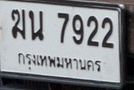txt04: (10, 8, 27, 41)
txt20: (28, 9, 45, 42)
